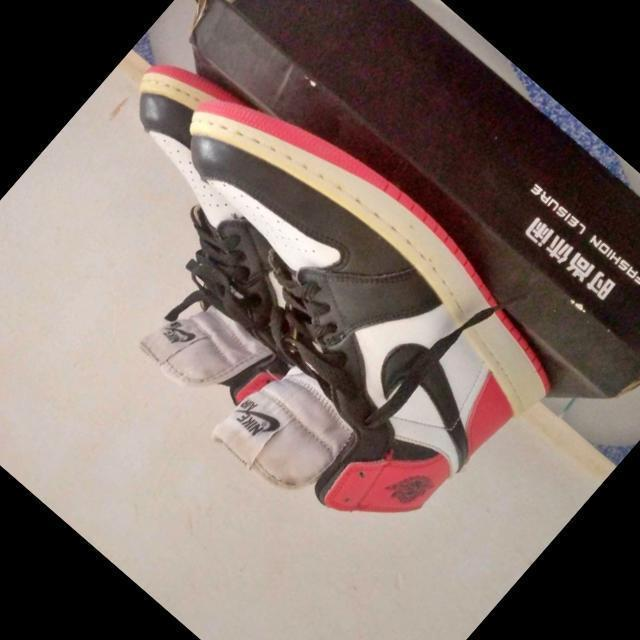nike fake jordan 1: (35, 48, 592, 592), (0, 36, 401, 433)
